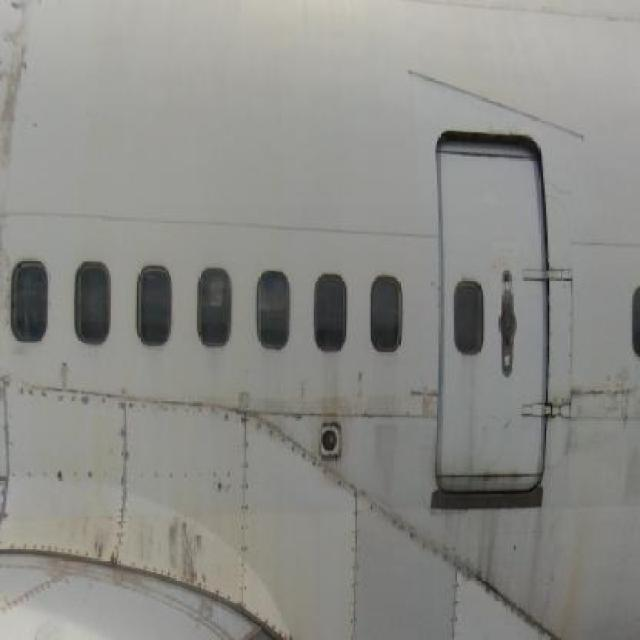Missing-Rivet: (17, 362, 320, 453), (102, 456, 135, 582), (1, 365, 14, 517)
Rust: (562, 452, 589, 640)
Scartch: (0, 6, 43, 234), (160, 502, 214, 588), (600, 362, 640, 433)
